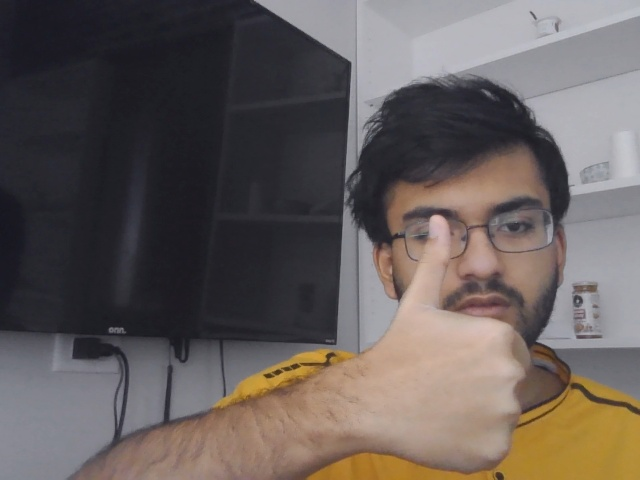ThumbsUp: (391, 215, 533, 475)
